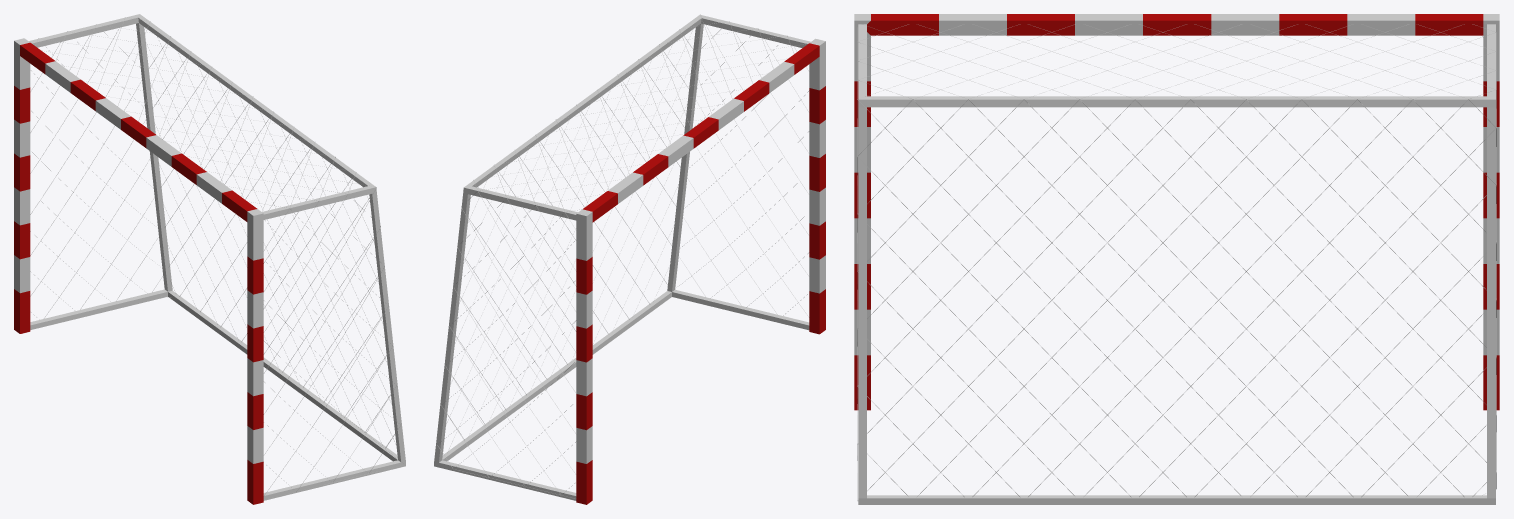
File: porteria.glb
3 renders of one model, left to right at view 1: azimuth 30°, elevation 25°; view 2: azimuth 150°, elevation 25°; view 3: azimuth 270°, elevation 25°, orthographic. The views are drawn at different scales.
Visible parts, largest first — view 1: PORTERIA_0; view 2: PORTERIA_0; view 3: PORTERIA_0.
Boxes of the visible parts, x1,y1,x2,y2 form: PORTERIA_0: (14, 14, 405, 504); PORTERIA_0: (434, 14, 825, 504); PORTERIA_0: (854, 14, 1499, 504).
Size of the model in its own units: 0.8418 by 1.51 by 2.27.
